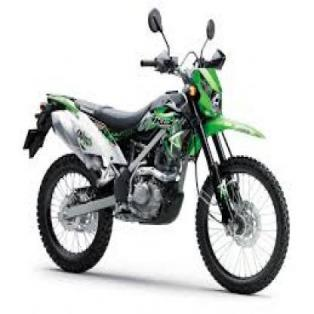Motocicleta: (21, 1, 295, 298)
